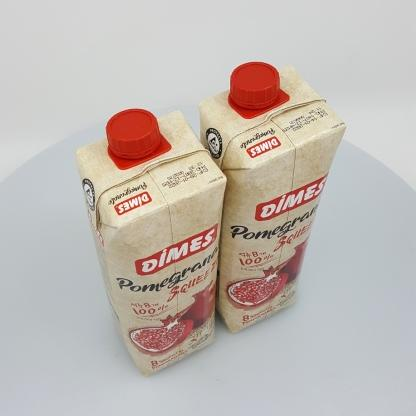DIMES------1000ML: (76, 109, 227, 376), (199, 62, 347, 333)
